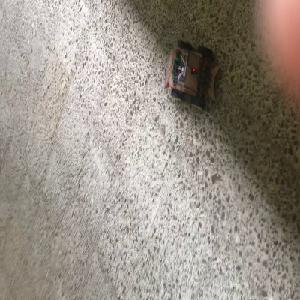Robot: (169, 40, 220, 109)
